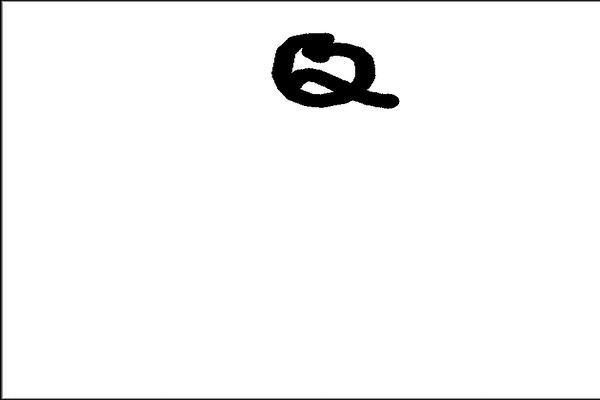Q: (264, 19, 400, 124)
